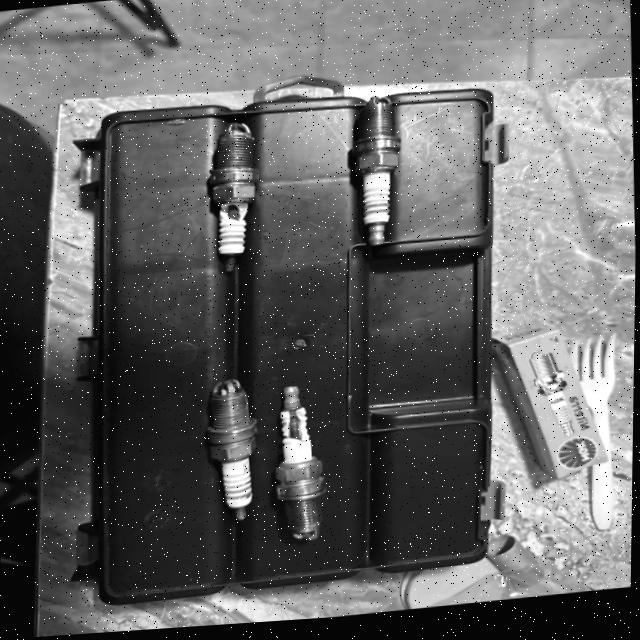damaged_spark-plug: (201, 120, 275, 284), (271, 383, 340, 556)
spark-plug: (200, 377, 262, 528), (354, 97, 411, 259)
